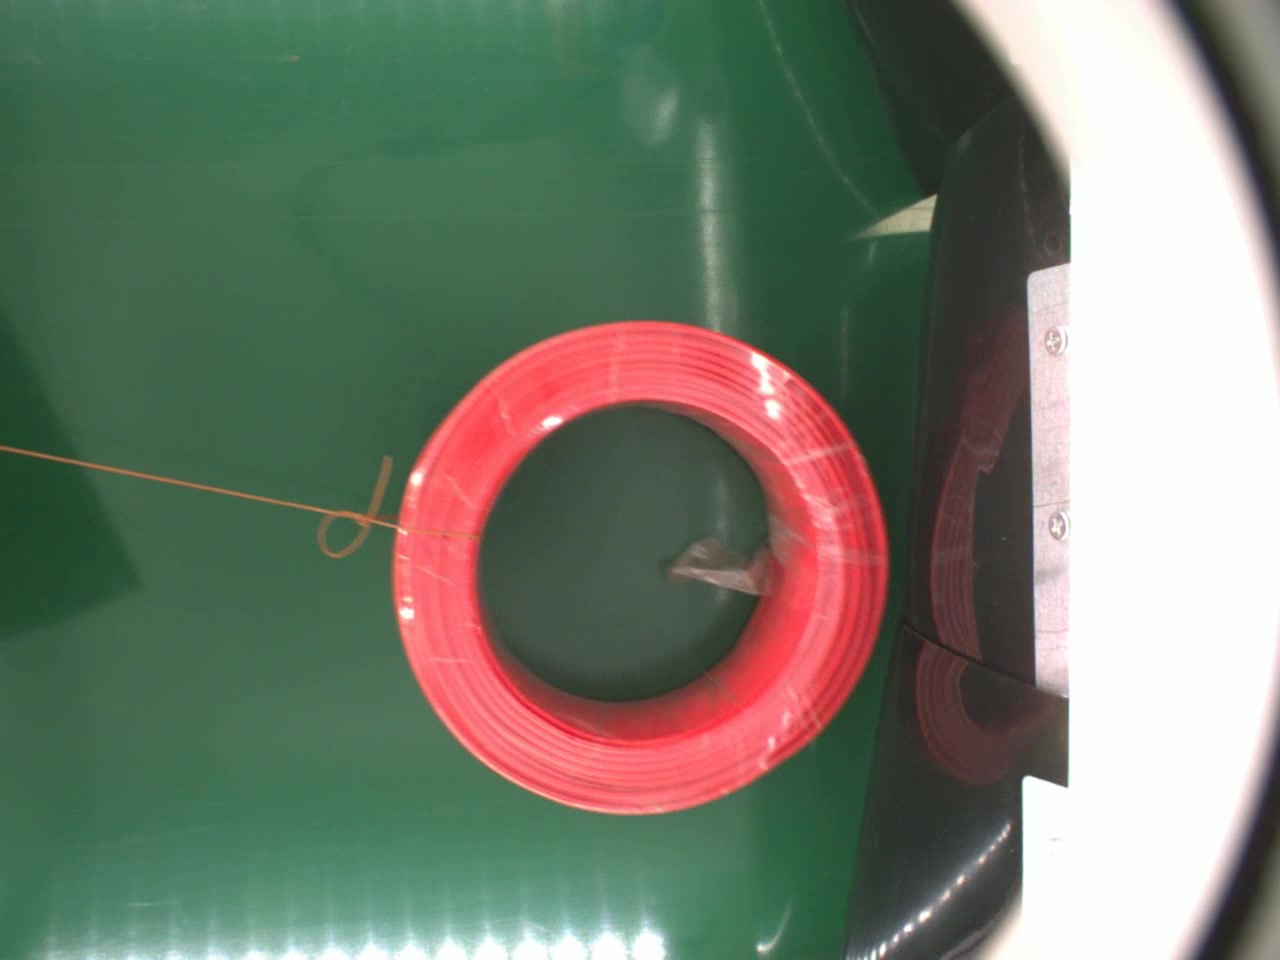red: (390, 318, 882, 815)
